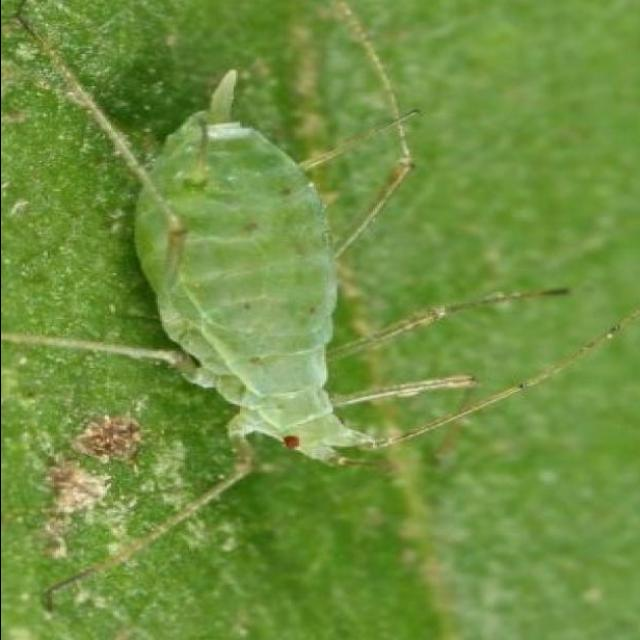Aphids: (0, 0, 640, 632)
